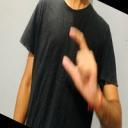hand: (61, 25, 98, 110)
